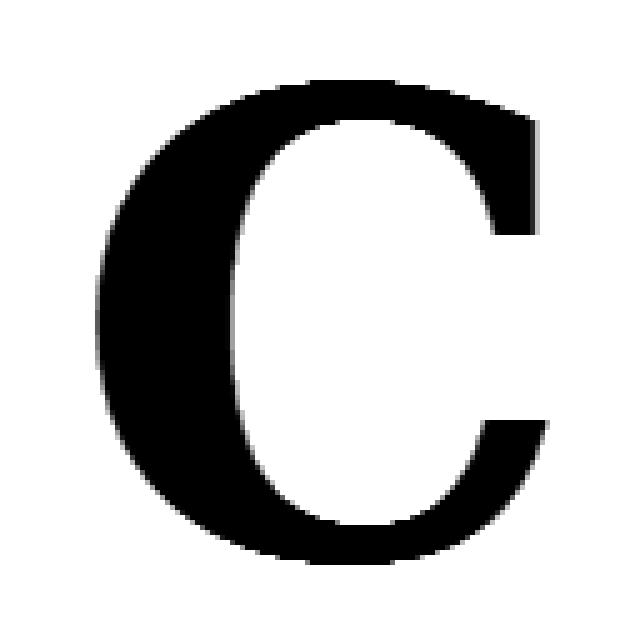C: (100, 80, 550, 565)
